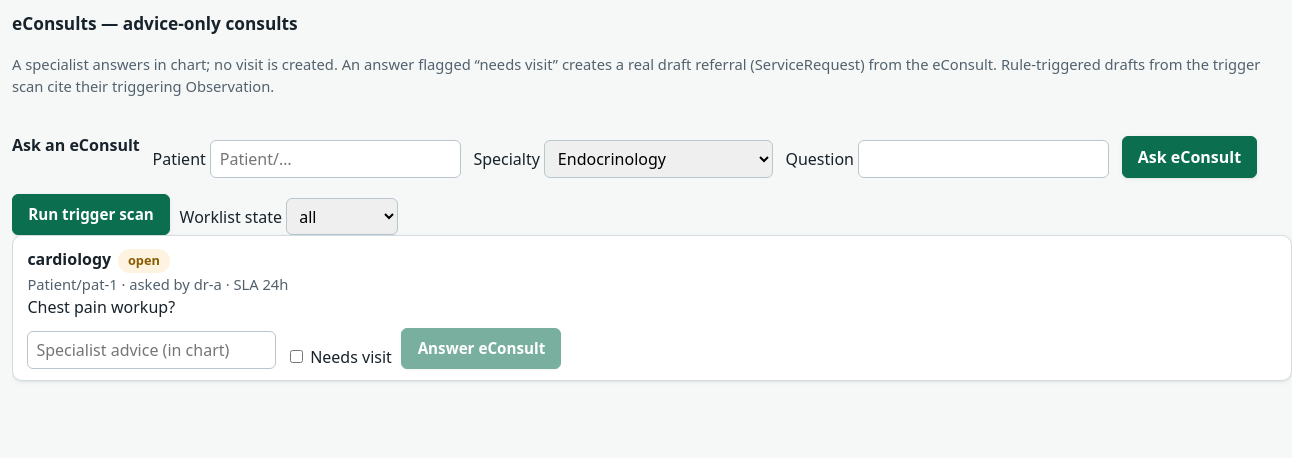
Test case: eConsults (BD-27) › answers an open eConsult in chart with the needs-visit flag
This screenshot has width=1292, height=458.
Expected: the text "Chest pain workup?" is shown, top-left (27, 296), bottom-right (175, 318)
Step 1. Type "Troponin trend is reassuring" into the field named "Advice for ec-1" → [152, 350], box top-left (27, 331), bottom-right (276, 369)
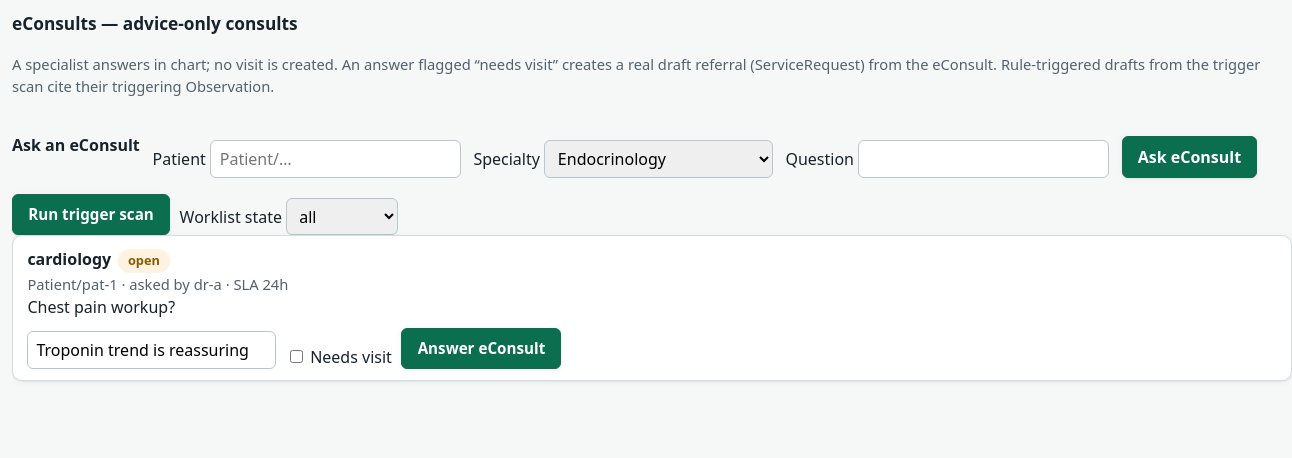
Step 2. Click the checkbox named "Needs visit for ec-1" → [296, 356], box top-left (290, 350), bottom-right (303, 363)
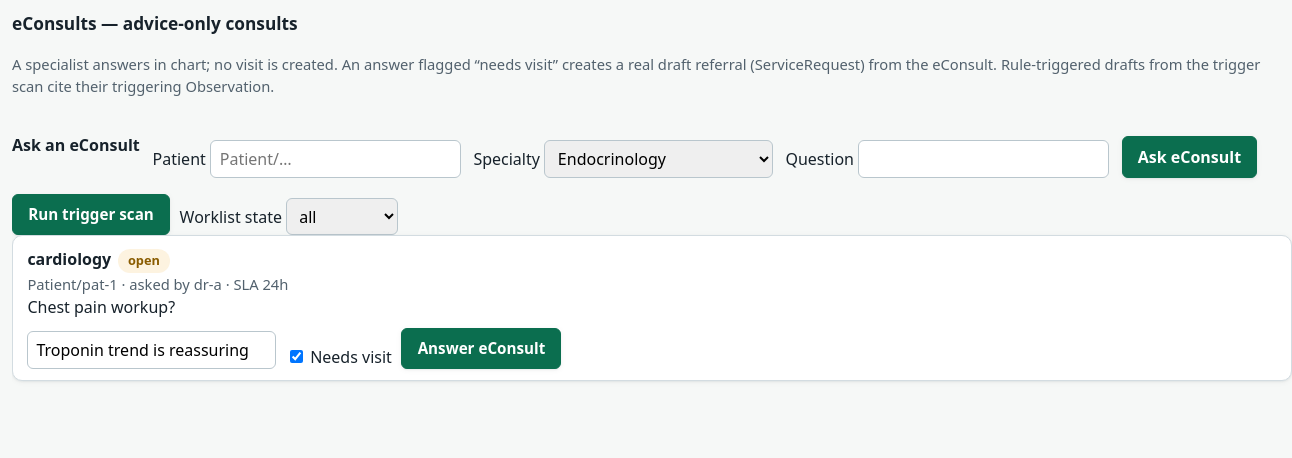
Step 3. Click the button "Answer eConsult" → [482, 348], box top-left (402, 328), bottom-right (562, 369)
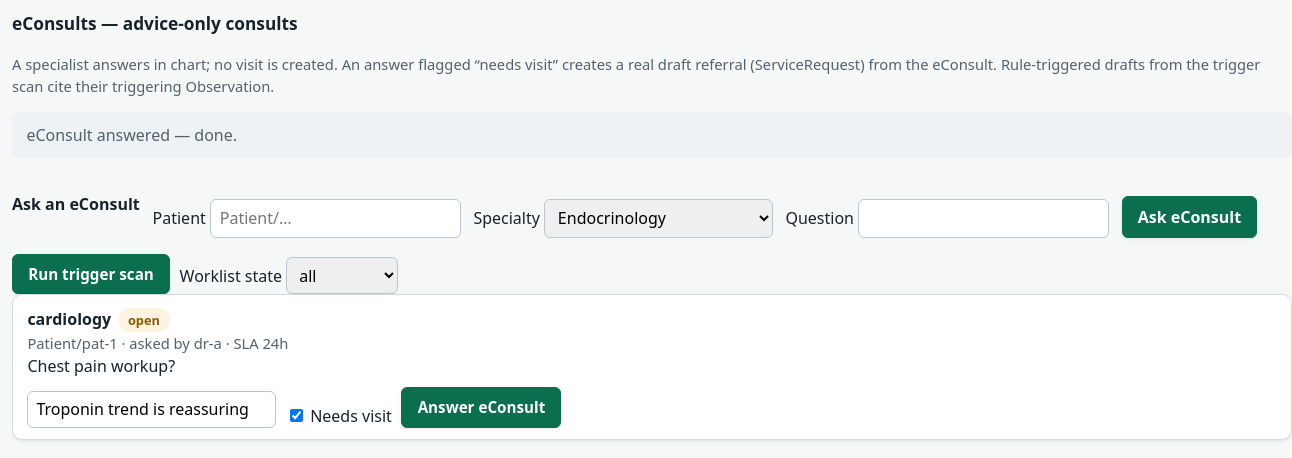
Now the text "eConsult answered — done." is shown, box top-left (12, 112), bottom-right (1291, 158)
